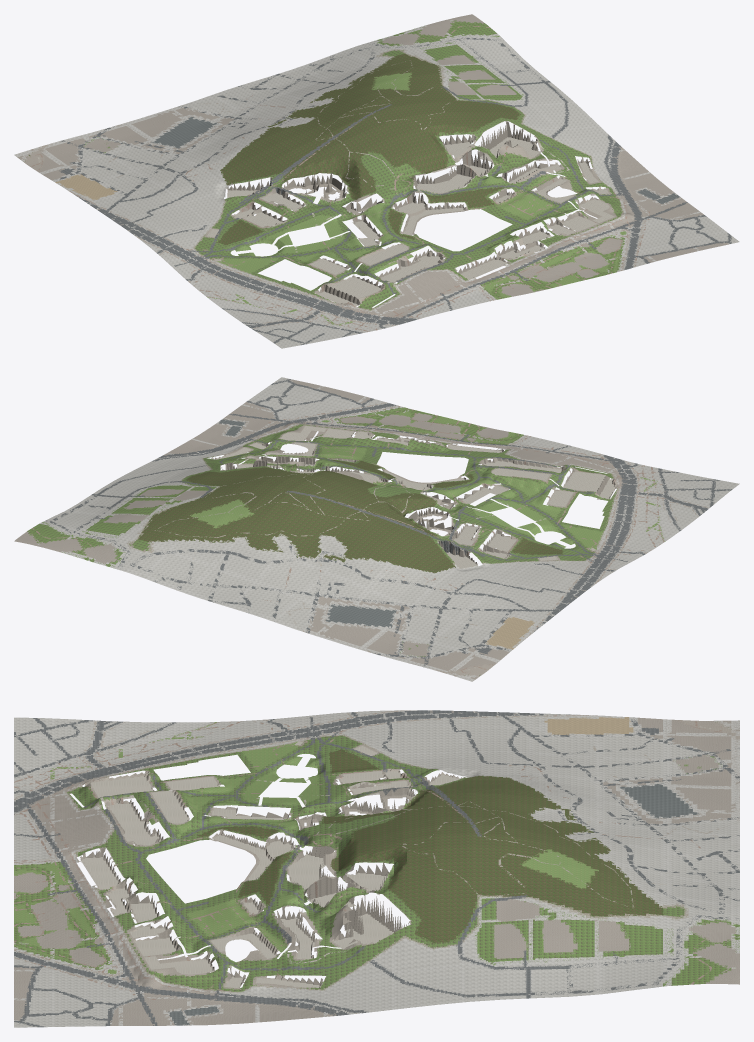
3 views of the same model, one above another, from view 1: azimuth 30°, elevation 25°; view 2: azimuth 150°, elevation 25°; view 3: azimuth 270°, elevation 25° (orthographic). The views are drawn at different scales.
Parts seen in each view (by area): view 1: ground-alley, ground-wood, ground-campusGarden, ground-city, ground-cityPave, ground-road, ground-campusPave, ground-placePaving, ground-road-overlay, ground-grass, ground-alley-overlay, ground-aptGarden (+10 smaller); view 2: ground-alley, ground-wood, ground-city, ground-cityPave, ground-campusGarden, ground-road, ground-road-overlay, ground-placePaving, ground-grass, ground-campusPave, ground-alley-overlay, ground-aptGarden (+9 smaller); view 3: ground-alley, ground-wood, ground-city, ground-campusGarden, ground-cityPave, ground-road, ground-placePaving, ground-campusPave, ground-road-overlay, ground-grass, ground-aptGarden, ground-alley-overlay (+13 smaller).
Part boxes in pixels (bbox=[...]): ground-alley: bbox=[76, 37, 739, 348]; ground-wood: bbox=[218, 54, 519, 244]; ground-campusGarden: bbox=[195, 50, 622, 309]; ground-city: bbox=[14, 20, 732, 344]; ground-cityPave: bbox=[17, 14, 728, 319]; ground-road: bbox=[60, 37, 731, 344]; ground-campusPave: bbox=[205, 121, 616, 306]; ground-placePaving: bbox=[191, 137, 614, 306]; ground-road-overlay: bbox=[56, 37, 731, 345]; ground-grass: bbox=[207, 72, 626, 325]; ground-alley-overlay: bbox=[53, 35, 725, 341]; ground-aptGarden: bbox=[106, 20, 623, 299]; ground-alley: bbox=[44, 377, 739, 655]; ground-wood: bbox=[138, 460, 562, 572]; ground-city: bbox=[38, 379, 726, 681]; ground-cityPave: bbox=[14, 379, 647, 679]; ground-campusGarden: bbox=[132, 424, 616, 563]; ground-road: bbox=[54, 379, 732, 657]; ground-road-overlay: bbox=[46, 379, 730, 668]; ground-placePaving: bbox=[217, 426, 616, 584]; ground-grass: bbox=[191, 408, 665, 549]; ground-campusPave: bbox=[208, 425, 617, 564]; ground-alley-overlay: bbox=[43, 387, 724, 656]; ground-aptGarden: bbox=[27, 407, 523, 649]; ground-alley: bbox=[14, 710, 731, 1027]; ground-wood: bbox=[199, 749, 662, 942]; ground-city: bbox=[14, 710, 739, 1026]; ground-campusGarden: bbox=[67, 735, 684, 991]; ground-cityPave: bbox=[14, 710, 739, 1025]; ground-road: bbox=[14, 710, 739, 1027]; ground-placePaving: bbox=[80, 741, 511, 987]; ground-campusPave: bbox=[80, 740, 464, 989]; ground-road-overlay: bbox=[14, 710, 739, 1026]; ground-grass: bbox=[14, 722, 598, 973]; ground-aptGarden: bbox=[14, 764, 731, 985]; ground-alley-overlay: bbox=[14, 710, 739, 1026].
Bounding box in the file's own units: 672 × 77.9 × 680.
Materials: 32 (32 with a texture image).
